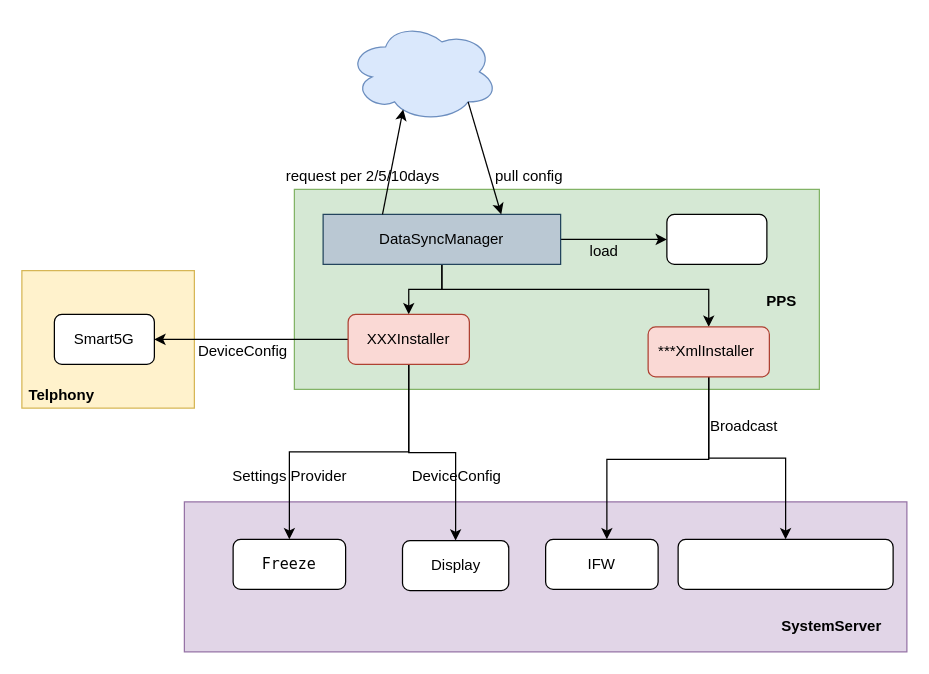
The diagram is 929 pixels wide and 674 high, and some of its shapes have lost their labels. The box of each missing label's shape, as (x1, y1, x2, y2) in pixels:
AllowImplicitBroadcast: (677, 538, 893, 589)
PefManager: (666, 213, 767, 264)
Syscloud: (347, 21, 498, 122)
